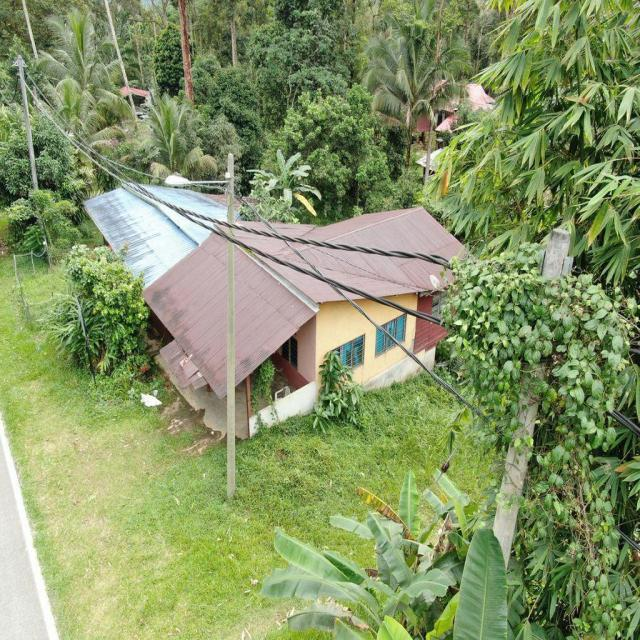light_pole: (433, 243, 631, 439)
